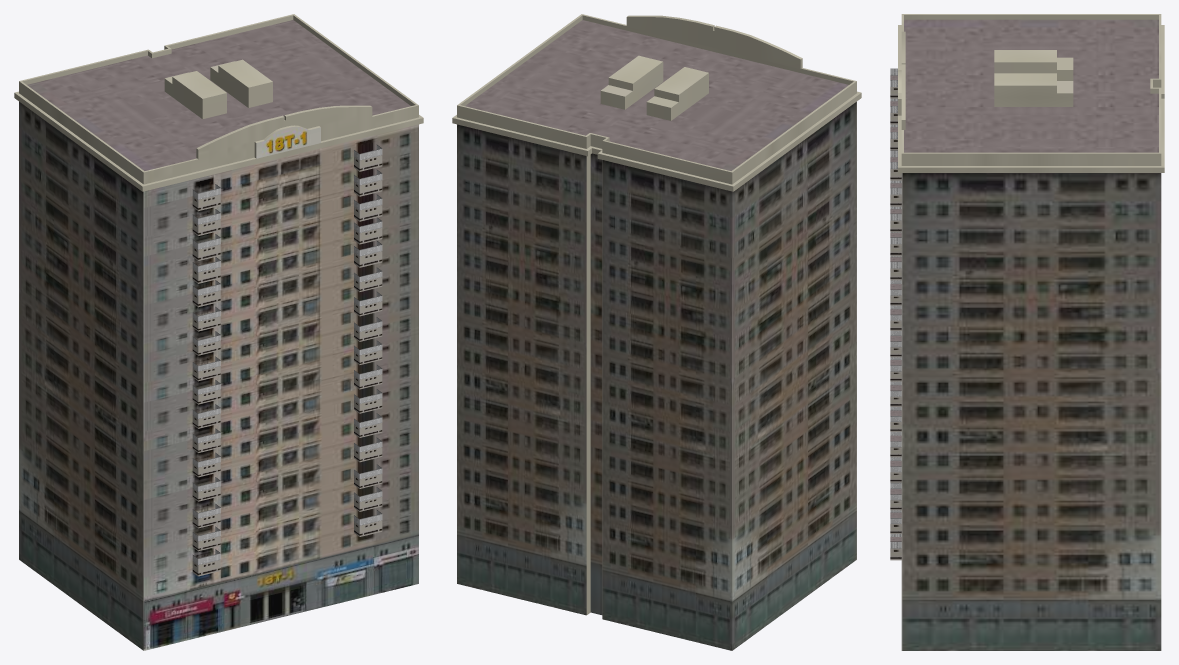
3 views of the same model, side by side, from view 1: azimuth 30°, elevation 25°; view 2: azimuth 150°, elevation 25°; view 3: azimuth 270°, elevation 25° (orthographic). The views are drawn at different scales.
Visible parts, largest first — view 1: Object017; view 2: Object017; view 3: Object017.
Boxes of the visible parts, box(x1,y1,x2,y2) form: Object017: box(14, 14, 423, 650); Object017: box(452, 14, 861, 650); Object017: box(890, 14, 1164, 650).
Bounding box in the file's own units: 42.9 × 72.84 × 34.91.
1 material, 1 textured.
